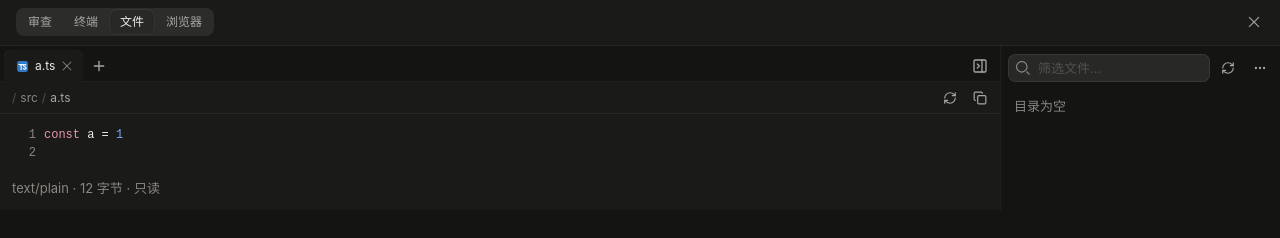
Scenario: WorkspacePanel › keeps the 文件 tabs across pane switches (FIX-05)
Expected: the element with class "tab-item" reads "a.ts", [4, 50, 59, 82]
Click the tab "浏览器": (184, 22) [156, 10, 212, 34]
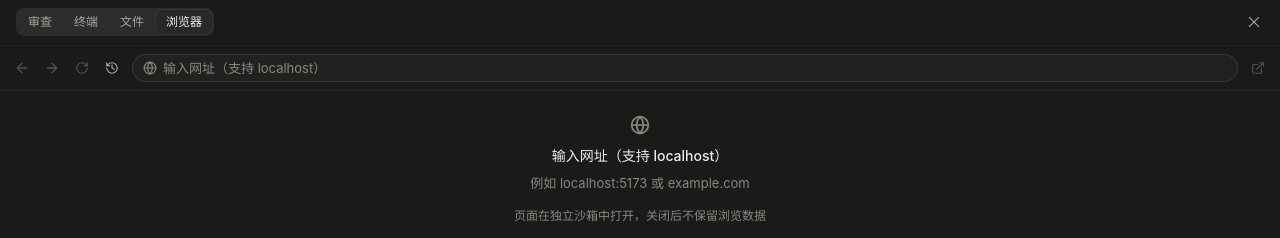
Click the tab "文件": (132, 22) [110, 10, 154, 34]
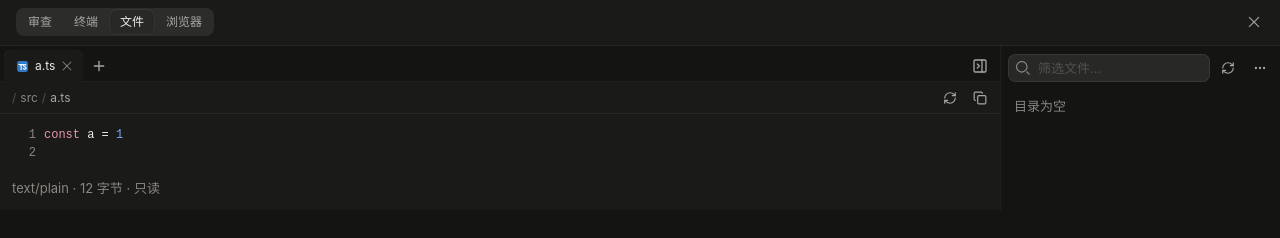
Expected: the element with class "tab-item" reads "a.ts", [4, 50, 59, 82]
